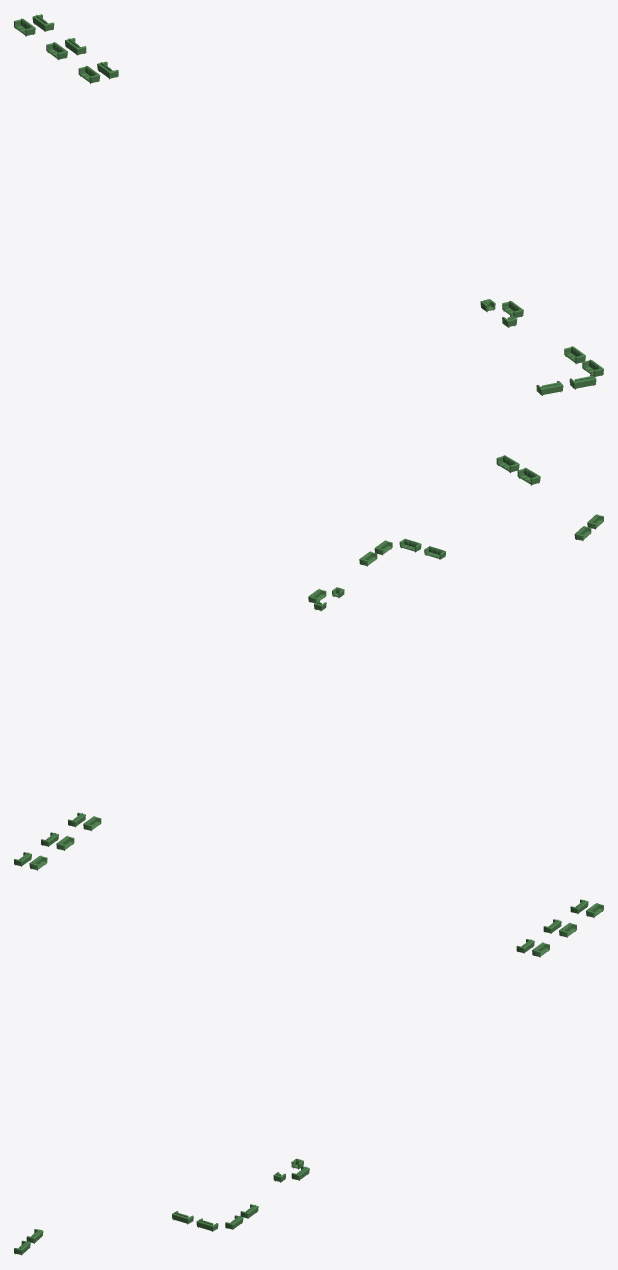
File: Chairs.glb
The picture shows the model from 3 angles, top to bottom: view 1: azimuth 30°, elevation 25°; view 2: azimuth 150°, elevation 25°; view 3: azimuth 330°, elevation 25°; orthographic projection. The views are drawn at different scales.
Visible parts, largest first — view 1: Chairs.001; view 2: Chairs.001; view 3: Chairs.001.
Boxes of the visible parts, bbox=[...] form: Chairs.001: bbox=[14, 14, 603, 485]; Chairs.001: bbox=[14, 514, 603, 870]; Chairs.001: bbox=[14, 899, 603, 1255].
Size of what is drawn, in the model's own units: 24.73 by 1.34 by 148.
Materials: 1 (1 with a texture image).
